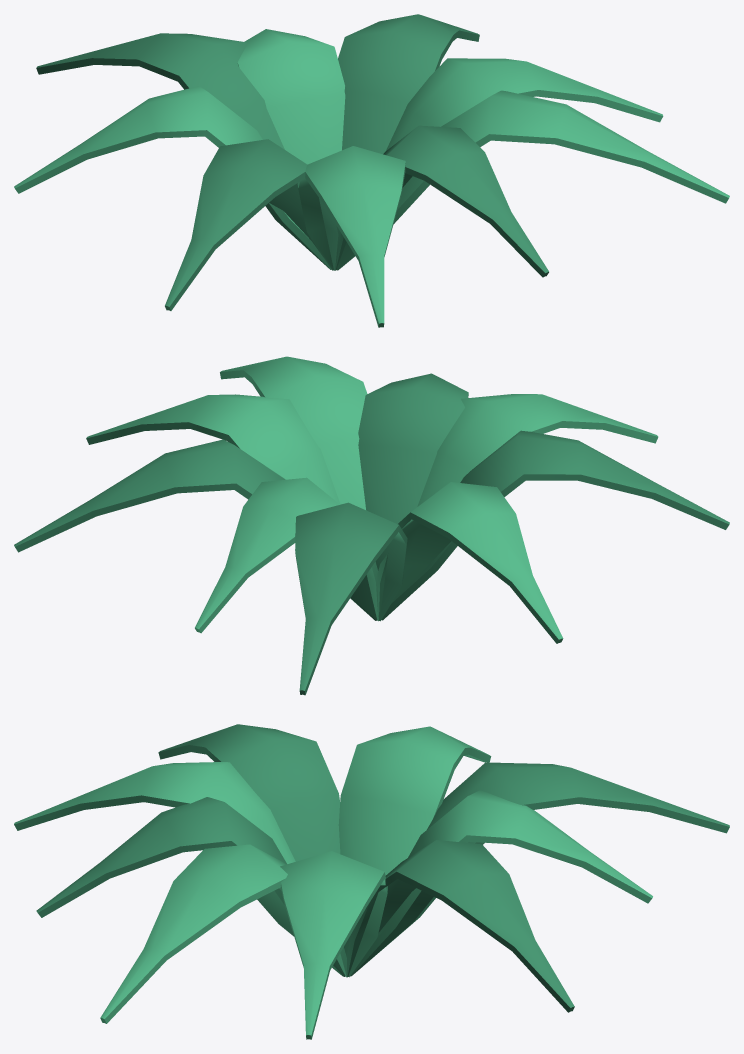
The model's file is W3_Fern.fbx.
3 renders of one model, top to bottom at view 1: azimuth 30°, elevation 25°; view 2: azimuth 150°, elevation 25°; view 3: azimuth 270°, elevation 25°, orthographic. The views are drawn at different scales.
Visible parts, largest first — view 1: W3_Fern; view 2: W3_Fern; view 3: W3_Fern.
Boxes of the visible parts, <box> form: W3_Fern: <box>14,14,729,327</box>; W3_Fern: <box>14,356,729,695</box>; W3_Fern: <box>14,724,729,1039</box>.
Size of the model in its own units: 2.71 by 0.825 by 2.88.
